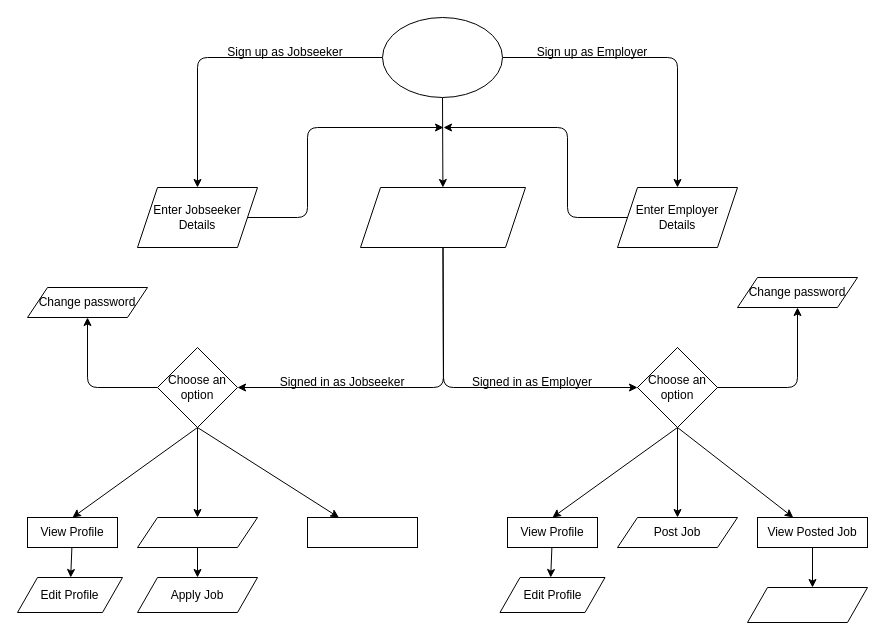
This 885x640 diagram has some shape labels left out. The shapes that lost their labels are listed below. From the top down, each one's centre as x and y in pixels, then its label:
At [442,57]: "Start".
At [443,217]: "Enter login username and password".
At [197,532]: "Search Job".
At [362,532]: "View applied Job".
At [807,604]: "View Applicants".
